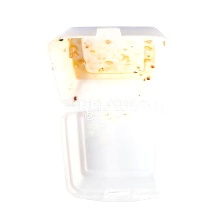foam_box: (41, 20, 181, 209)
